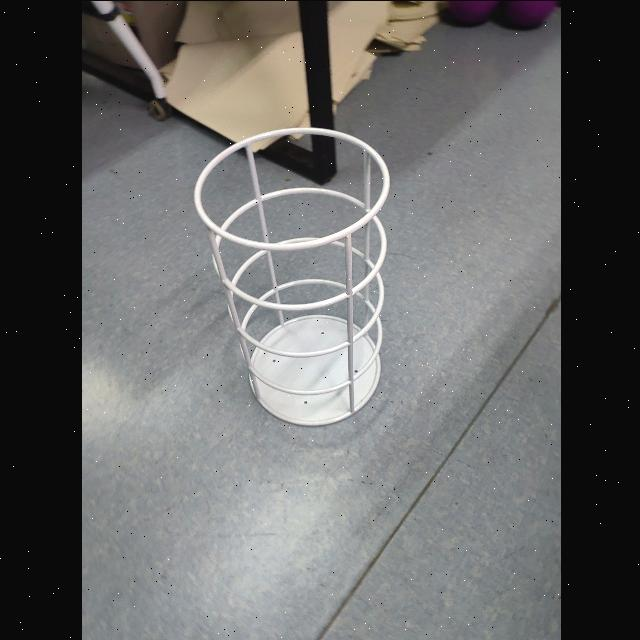S: (190, 122, 394, 430)
